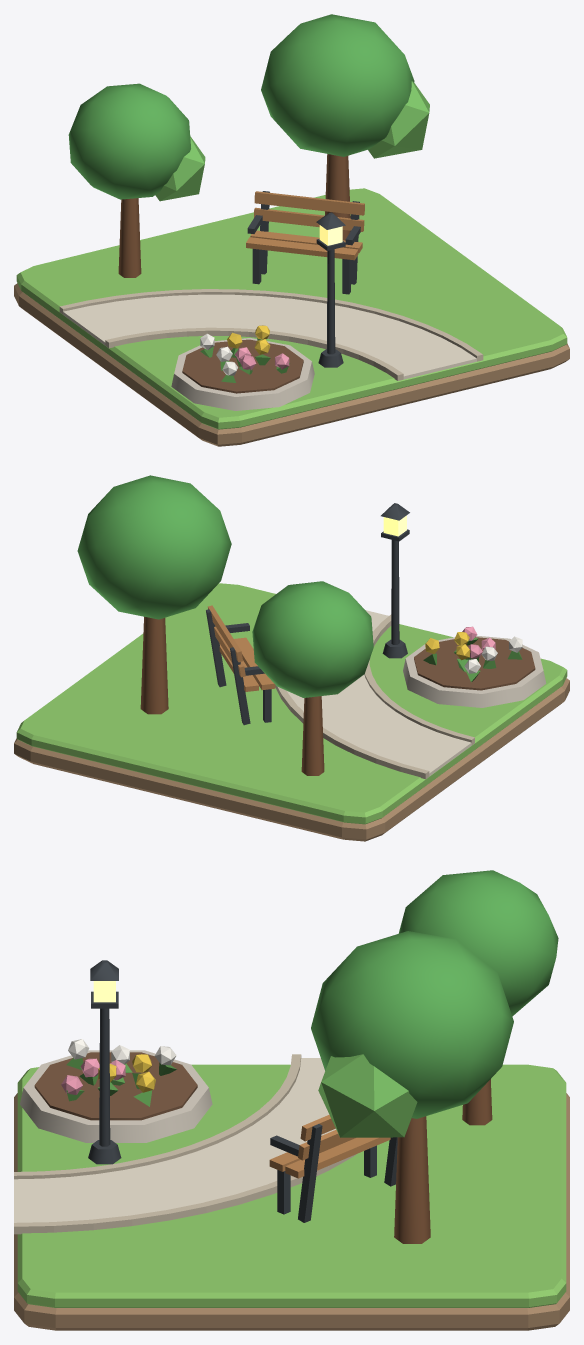
Rendered from city_park.glb.
The picture shows the model from 3 angles, top to bottom: view 1: azimuth 30°, elevation 25°; view 2: azimuth 150°, elevation 25°; view 3: azimuth 270°, elevation 25°; orthographic projection. The views are drawn at different scales.
Visible parts, largest first — view 1: lawn, tree_1_canopy, gravel_path, tree_2_canopy, base_soil, flower_bed_soil, flower_bed_border, path_edge_outer, path_edge_inner, tree_1_canopy_small, tree_2_trunk, tree_2_canopy_small (+6 smaller); view 2: lawn, tree_1_canopy, tree_2_canopy, base_soil, gravel_path, flower_bed_soil, flower_bed_border, tree_1_trunk, tree_2_trunk, path_edge_outer, path_edge_inner, lantern_post (+4 smaller); view 3: lawn, tree_1_canopy, gravel_path, base_soil, tree_2_canopy, tree_1_canopy_small, flower_bed_soil, flower_bed_border, tree_1_trunk, path_edge_outer, path_edge_inner, lantern_post (+6 smaller).
Part boxes in pixels (bbox=[...]): lawn: bbox=[16, 188, 567, 429]; tree_1_canopy: bbox=[261, 14, 414, 156]; gravel_path: bbox=[63, 294, 476, 379]; tree_2_canopy: bbox=[68, 83, 190, 199]; base_soil: bbox=[14, 283, 569, 446]; flower_bed_soil: bbox=[182, 339, 303, 393]; flower_bed_border: bbox=[171, 338, 314, 410]; path_edge_outer: bbox=[59, 289, 483, 361]; path_edge_inner: bbox=[105, 327, 403, 380]; tree_1_canopy_small: bbox=[368, 81, 429, 158]; tree_2_trunk: bbox=[118, 198, 141, 277]; tree_2_canopy_small: bbox=[155, 136, 205, 201]; lawn: bbox=[16, 583, 567, 824]; tree_1_canopy: bbox=[77, 475, 231, 619]; tree_2_canopy: bbox=[252, 581, 373, 697]; base_soil: bbox=[14, 678, 569, 841]; gravel_path: bbox=[287, 610, 471, 776]; flower_bed_soil: bbox=[414, 637, 535, 690]; flower_bed_border: bbox=[403, 635, 546, 707]; tree_1_trunk: bbox=[140, 616, 168, 714]; tree_2_trunk: bbox=[301, 696, 324, 775]; path_edge_outer: bbox=[275, 685, 429, 779]; path_edge_inner: bbox=[364, 614, 474, 745]; lantern_post: bbox=[391, 540, 399, 644]; lawn: bbox=[17, 1064, 566, 1307]; tree_1_canopy: bbox=[311, 931, 513, 1118]; gravel_path: bbox=[14, 1058, 336, 1222]; base_soil: bbox=[14, 1093, 569, 1330]; tree_2_canopy: bbox=[398, 870, 558, 1016]; tree_1_canopy_small: bbox=[318, 1054, 417, 1137]; flower_bed_soil: bbox=[34, 1052, 197, 1120]; flower_bed_border: bbox=[20, 1050, 212, 1142]; tree_1_trunk: bbox=[394, 1116, 430, 1243]; path_edge_outer: bbox=[14, 1154, 356, 1234]; path_edge_inner: bbox=[14, 1054, 301, 1179]; lantern_post: bbox=[99, 1008, 110, 1146].
Size of the model in its own units: 3 by 1.99 by 3.
